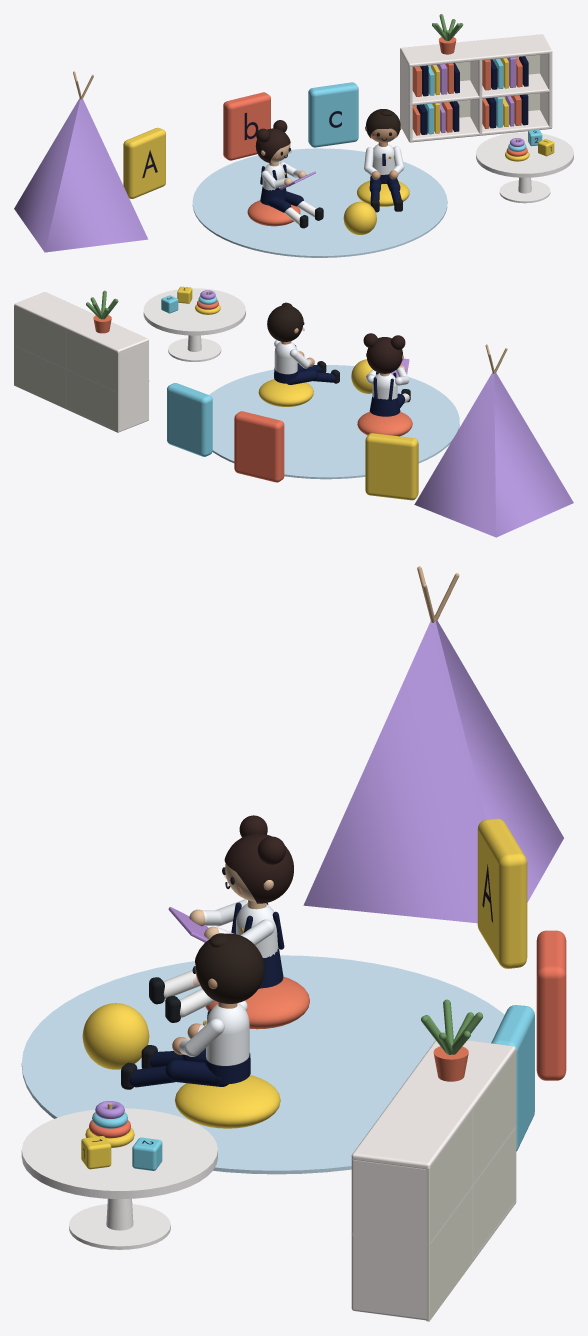
The picture shows the model from 3 angles, top to bottom: view 1: azimuth 30°, elevation 25°; view 2: azimuth 150°, elevation 25°; view 3: azimuth 270°, elevation 25°; orthographic projection. The views are drawn at different scales.
Parts seen in each view (by area): view 1: Mesh_0; view 2: Mesh_0; view 3: Mesh_0.
Boxes of the visible parts, <box> form: Mesh_0: <box>14,14,573,257</box>; Mesh_0: <box>14,286,573,537</box>; Mesh_0: <box>21,566,566,1321</box>.
Size of the model in its own units: 6.09 by 1.68 by 2.77.
Materials: 7 (7 with a texture image).
